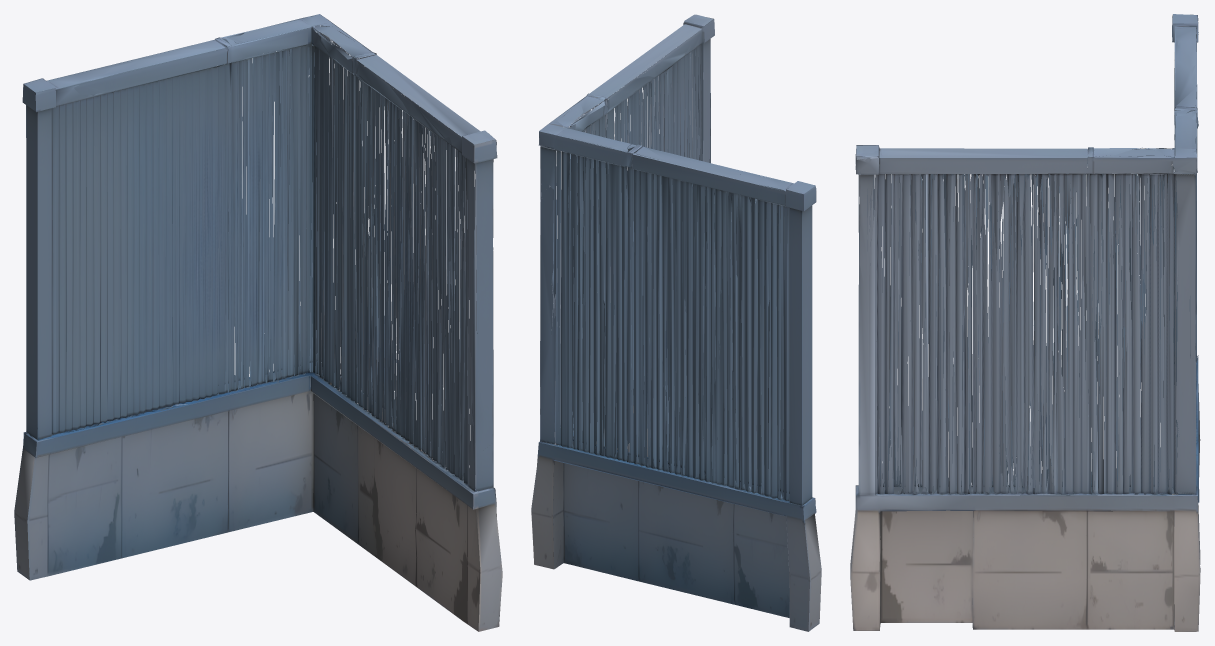
The model's file is corner.glb.
3 renders of one model, left to right at view 1: azimuth 30°, elevation 25°; view 2: azimuth 150°, elevation 25°; view 3: azimuth 270°, elevation 25°, orthographic. The views are drawn at different scales.
Parts seen in each view (by area): view 1: Industrial_corner; view 2: Industrial_corner; view 3: Industrial_corner.
Boxes of the visible parts, left/top/right/bottom form: Industrial_corner: left=14, top=14, right=502, bottom=631; Industrial_corner: left=531, top=14, right=821, bottom=631; Industrial_corner: left=850, top=14, right=1200, bottom=631.
Size of the model in its own units: 2 by 3 by 2.
1 material, 1 textured.
